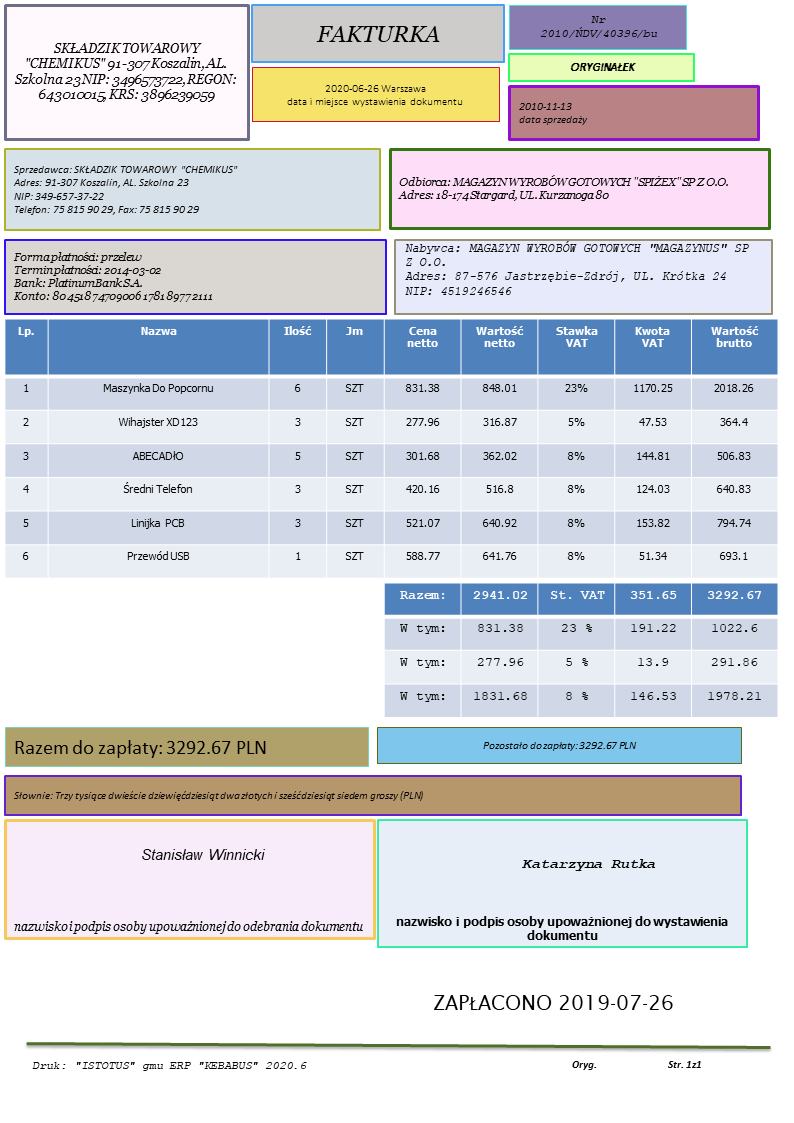Table: (3, 317, 779, 580), (383, 582, 778, 718)
TextBox: (401, 238, 753, 299), (12, 39, 240, 105), (10, 159, 240, 220), (10, 249, 216, 307), (397, 173, 731, 206), (394, 914, 731, 943), (11, 787, 425, 805), (11, 734, 269, 762), (12, 918, 364, 937), (283, 81, 465, 112), (431, 991, 675, 1012), (28, 1056, 310, 1073), (536, 12, 663, 43), (312, 20, 442, 48), (139, 845, 268, 865), (520, 855, 658, 873), (569, 1056, 704, 1074), (480, 738, 640, 753), (515, 98, 589, 129), (567, 59, 638, 75)
